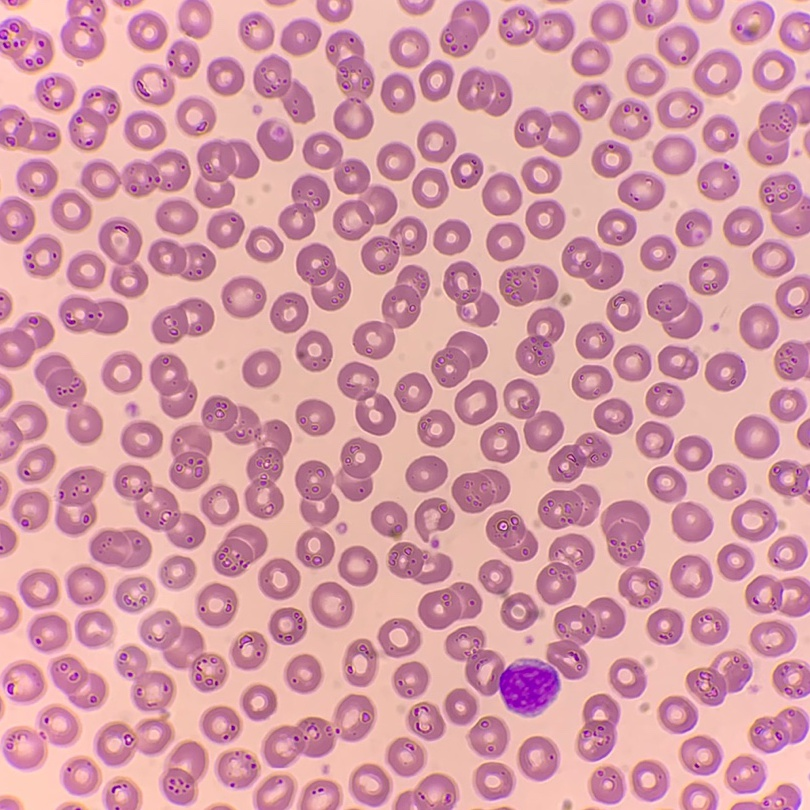RBC: (170, 396, 290, 518), (446, 626, 560, 716), (303, 133, 396, 240), (263, 695, 374, 767), (114, 465, 204, 548), (353, 265, 428, 358), (140, 611, 226, 691), (547, 598, 624, 679), (35, 355, 102, 443), (81, 150, 189, 198), (326, 30, 373, 138), (748, 86, 809, 165), (195, 140, 258, 207), (504, 379, 562, 451), (479, 560, 539, 629), (571, 2, 627, 75), (338, 363, 395, 434), (253, 56, 314, 122), (537, 534, 593, 604), (99, 218, 147, 297), (94, 719, 173, 766), (116, 646, 173, 711), (362, 217, 426, 273), (296, 244, 350, 310), (687, 651, 752, 705), (444, 262, 498, 326), (499, 6, 574, 51), (279, 175, 329, 239), (69, 87, 119, 150), (515, 108, 580, 156), (562, 237, 622, 289), (601, 500, 649, 565), (516, 308, 563, 374), (56, 468, 102, 535), (760, 174, 809, 236), (647, 283, 701, 338), (50, 656, 106, 709), (549, 433, 610, 481), (432, 332, 486, 386), (150, 354, 196, 417), (419, 583, 481, 629), (577, 694, 619, 760), (162, 741, 206, 804), (148, 239, 215, 280), (440, 0, 489, 56), (296, 461, 338, 526), (336, 438, 380, 500), (0, 19, 52, 71), (0, 316, 53, 367), (213, 525, 266, 576), (152, 299, 213, 343), (0, 106, 59, 151), (745, 575, 809, 616), (538, 485, 599, 528), (749, 708, 808, 752), (389, 542, 451, 583), (59, 297, 127, 334), (486, 511, 537, 560), (61, 0, 104, 58), (458, 68, 511, 115), (452, 469, 509, 512), (499, 265, 557, 305), (89, 530, 150, 568), (395, 774, 458, 809), (694, 49, 740, 95), (0, 402, 46, 444), (310, 582, 352, 627), (735, 416, 778, 458), (455, 380, 496, 424), (732, 500, 776, 541), (618, 172, 664, 210), (349, 764, 390, 806), (222, 277, 265, 317), (518, 737, 558, 780), (731, 1, 773, 41), (733, 784, 800, 809), (740, 304, 778, 348), (657, 90, 702, 127), (753, 50, 794, 90), (671, 556, 711, 597), (482, 173, 521, 215), (619, 568, 661, 607), (197, 584, 236, 626), (658, 25, 698, 65), (610, 99, 650, 139), (51, 190, 91, 230), (259, 559, 299, 599), (3, 729, 43, 769), (680, 736, 721, 775), (653, 136, 695, 174), (215, 751, 258, 788), (750, 621, 795, 656), (626, 55, 665, 95), (133, 65, 173, 104), (469, 717, 508, 757), (0, 197, 34, 242), (338, 546, 377, 585), (125, 111, 165, 149), (417, 121, 455, 161), (17, 159, 57, 197), (698, 161, 738, 199), (705, 352, 745, 390), (672, 503, 712, 541), (379, 619, 420, 656), (344, 639, 376, 686), (390, 28, 428, 67), (102, 354, 141, 392), (19, 570, 58, 608), (28, 614, 67, 652), (24, 235, 61, 275), (121, 421, 162, 457), (128, 12, 166, 50), (526, 200, 564, 238), (724, 207, 762, 245), (689, 256, 727, 294), (415, 498, 453, 536), (67, 566, 105, 604), (39, 707, 77, 745), (270, 293, 307, 332), (481, 423, 518, 462), (201, 485, 238, 524), (296, 529, 333, 568), (296, 331, 332, 371), (769, 460, 809, 496), (753, 241, 794, 276), (406, 456, 447, 491), (776, 275, 809, 318), (177, 98, 215, 135), (659, 696, 697, 733), (726, 756, 764, 793), (592, 141, 631, 177), (12, 491, 48, 530), (201, 706, 240, 742), (632, 761, 668, 800), (475, 763, 514, 799), (257, 120, 292, 160), (156, 200, 197, 234), (377, 143, 414, 180), (487, 223, 524, 260), (243, 350, 280, 387), (207, 57, 243, 95), (35, 74, 73, 110), (522, 157, 560, 193), (395, 373, 431, 411), (773, 660, 809, 698), (387, 738, 423, 776), (281, 19, 320, 54), (412, 168, 447, 207), (115, 577, 154, 612), (269, 608, 306, 644), (75, 611, 112, 647), (231, 632, 267, 669), (285, 655, 321, 692), (296, 400, 334, 435), (648, 466, 686, 501), (610, 659, 645, 697), (572, 365, 611, 399), (254, 775, 293, 809), (574, 83, 610, 119), (418, 410, 454, 446), (371, 501, 407, 537), (408, 703, 444, 739), (598, 209, 635, 244), (67, 253, 104, 288), (17, 446, 54, 481), (708, 464, 745, 499), (691, 609, 728, 644), (775, 341, 809, 379), (381, 73, 414, 112), (607, 291, 640, 330), (676, 210, 711, 246), (207, 212, 243, 247), (576, 323, 612, 358), (614, 345, 650, 380), (636, 422, 672, 457), (718, 544, 753, 580), (594, 399, 631, 433), (420, 61, 452, 100), (658, 346, 697, 378), (633, 0, 677, 28), (241, 685, 276, 720), (239, 13, 273, 49), (703, 115, 737, 151), (246, 227, 282, 261), (675, 436, 711, 470), (394, 662, 428, 698), (63, 759, 97, 795), (646, 383, 683, 416), (769, 536, 806, 569), (434, 220, 469, 254), (647, 609, 682, 643), (591, 767, 624, 803), (179, 0, 211, 37), (641, 236, 675, 270), (444, 689, 477, 724), (167, 41, 199, 77), (780, 12, 809, 51), (160, 556, 195, 588), (770, 390, 805, 421), (104, 779, 140, 809), (16, 663, 43, 702), (452, 154, 482, 188), (682, 783, 717, 809), (316, 0, 352, 21), (689, 0, 723, 20), (0, 595, 18, 632), (0, 524, 15, 556), (406, 0, 432, 14), (0, 378, 11, 407), (798, 420, 809, 447), (0, 297, 11, 319), (306, 781, 323, 794), (0, 799, 18, 809), (0, 447, 13, 460), (0, 486, 7, 502), (326, 783, 336, 793), (2, 672, 11, 683), (270, 0, 286, 5), (299, 801, 308, 809), (117, 0, 129, 5), (805, 134, 809, 147), (67, 805, 77, 809), (328, 805, 336, 809)
